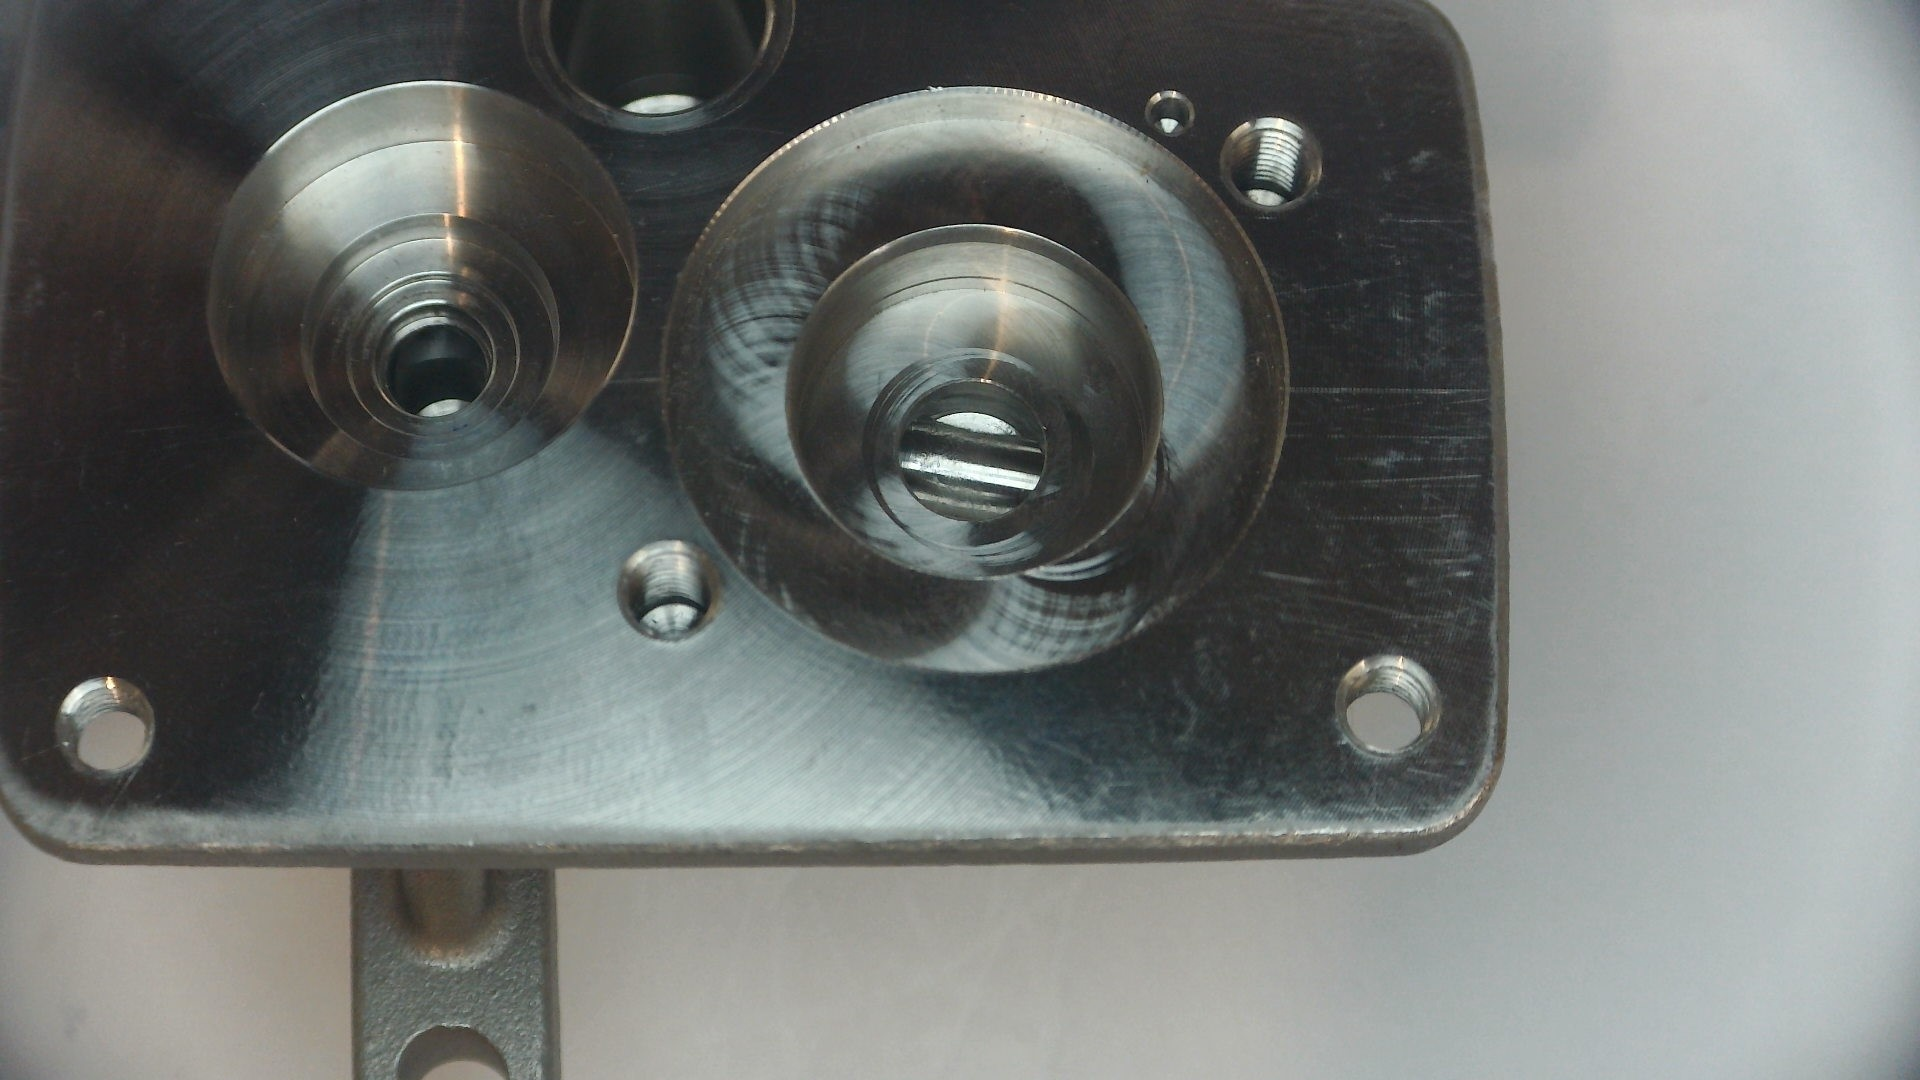thread_presence: (622, 547, 712, 622), (1341, 662, 1433, 732), (1226, 125, 1313, 199), (59, 683, 150, 746)
